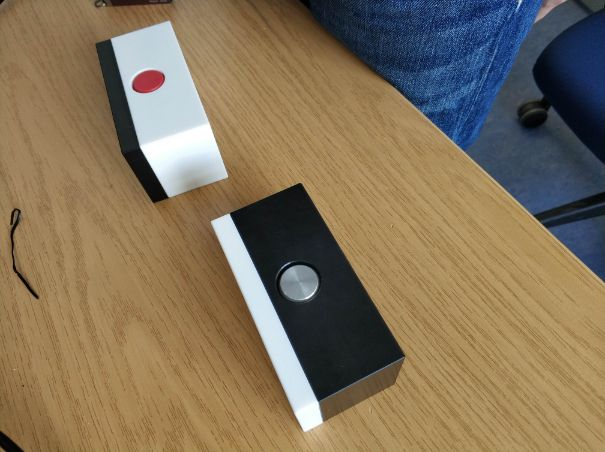black+white+red: (93, 19, 232, 205)
white+black+silver: (207, 182, 409, 435)
